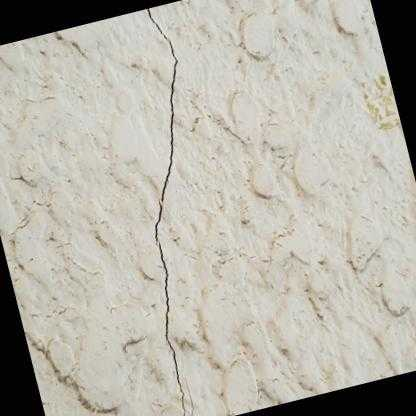crack: (146, 8, 186, 416), (181, 362, 195, 416)
